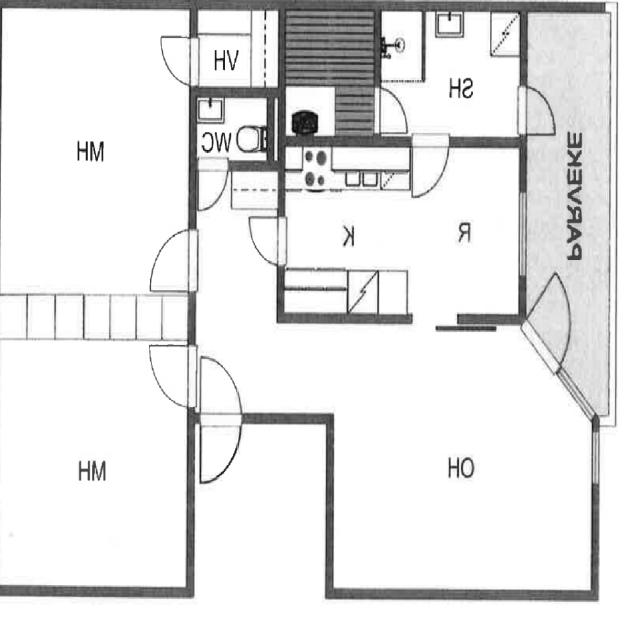door: (521, 268, 592, 374), (146, 346, 194, 408), (200, 414, 241, 486), (146, 230, 194, 291), (200, 353, 241, 424), (413, 137, 449, 202), (518, 86, 558, 134), (155, 37, 194, 84), (245, 217, 284, 264), (198, 160, 228, 216), (374, 88, 410, 133)
